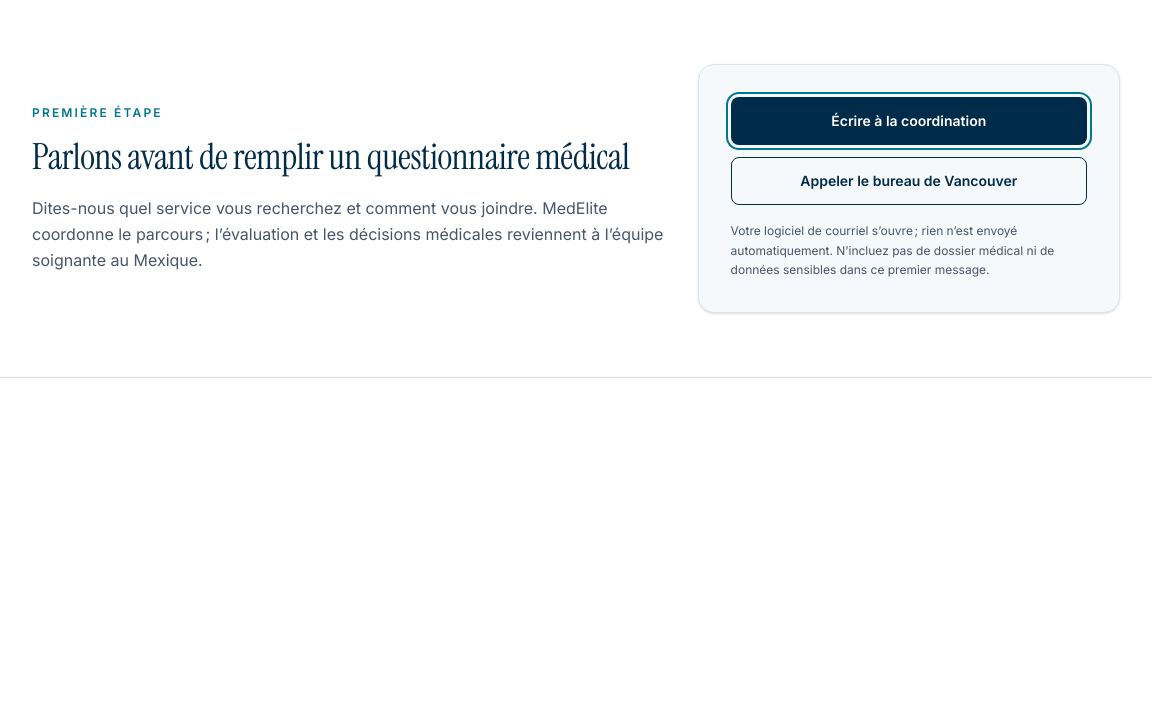
Test: SalesContact › offers an accessible, manual contact route in fr
Expected: the element "Parlons avant de remplir un questionnaire médical" is shown, 0,0 -> 1151,378
Expected: the text "Votre logiciel de courriel s’ouvre ; rien n’est envoyé automatiquement. N’incluez pas de dossier médical ni de données s" is shown, 731,223 -> 1054,277
Click the button "Écrire à la coordination".
click(909, 121)  # box 731,97 -> 1087,145
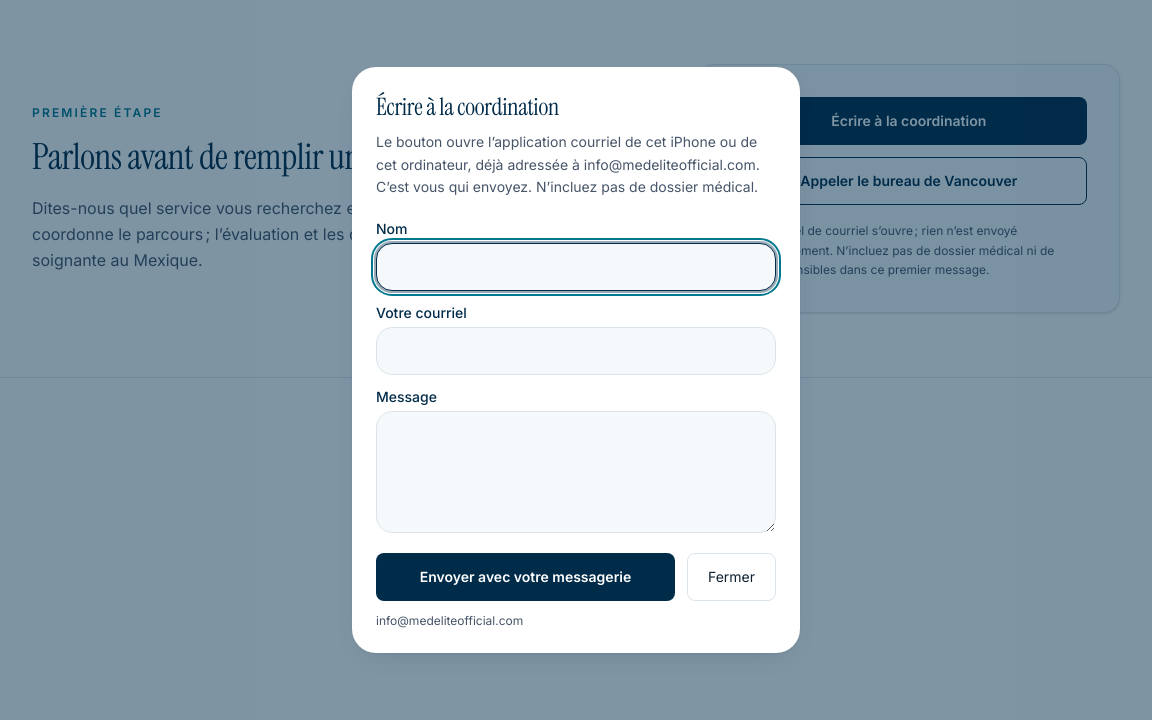
Expected: the dialog is shown
